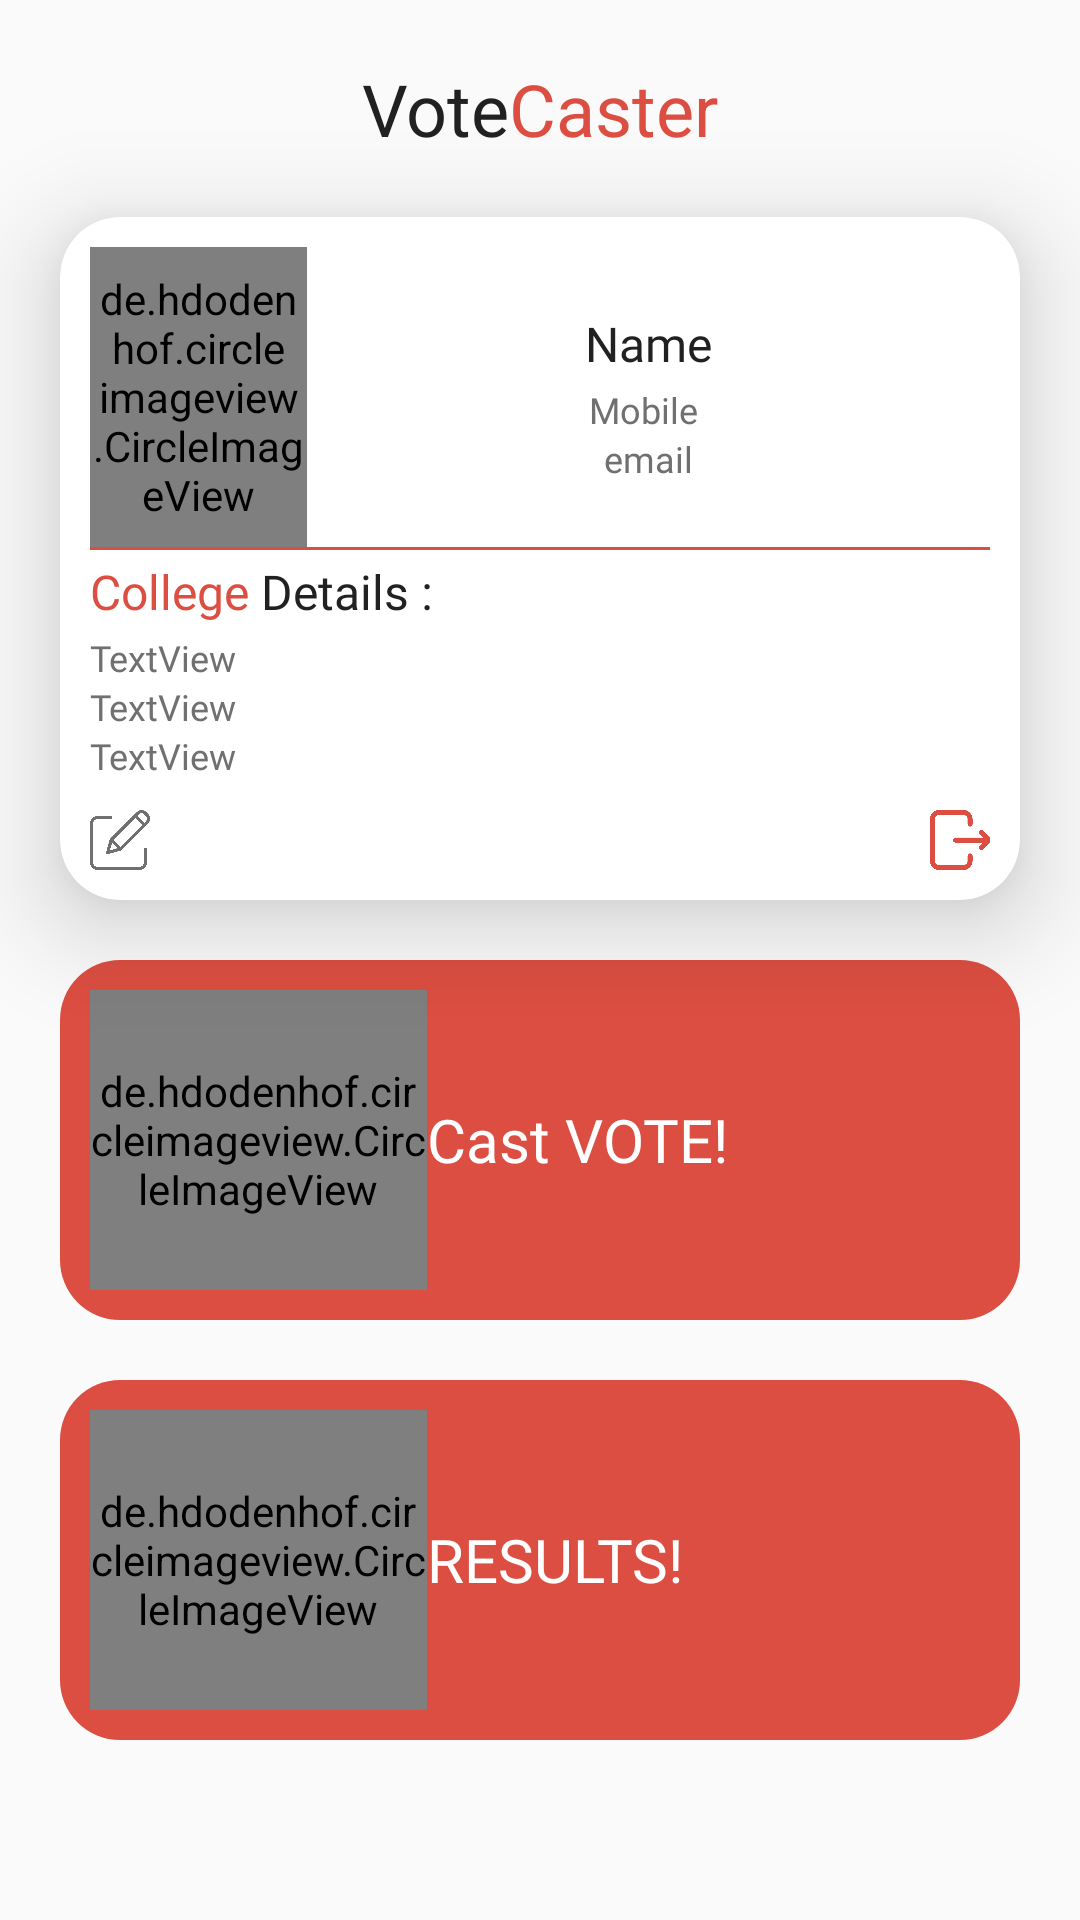

Screen size 1080x1920. Icon name, then its center in pixels as (x,y):
edit: (120,840)
